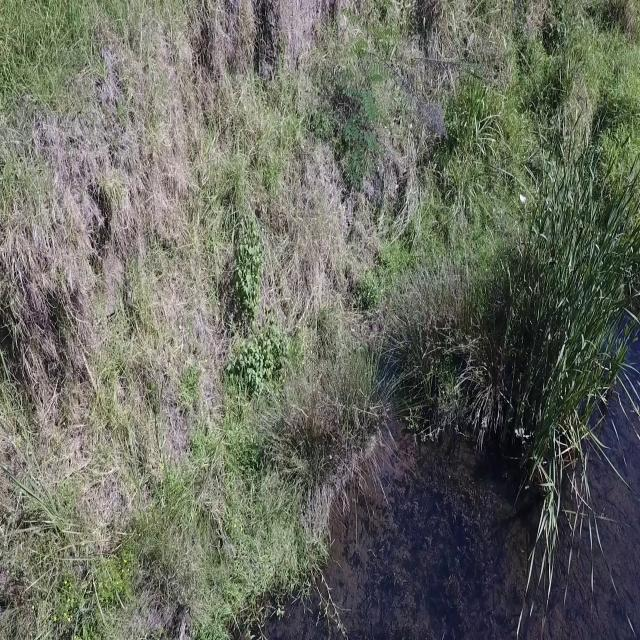Mysore-Thorn-Weed: (329, 30, 385, 172)
